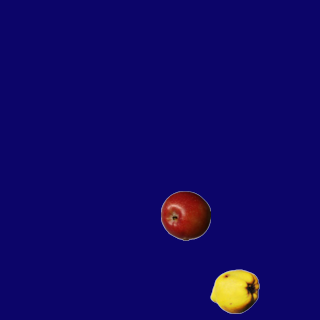Apple Braeburn: (160, 190, 210, 240)
Quince: (209, 266, 259, 316)
